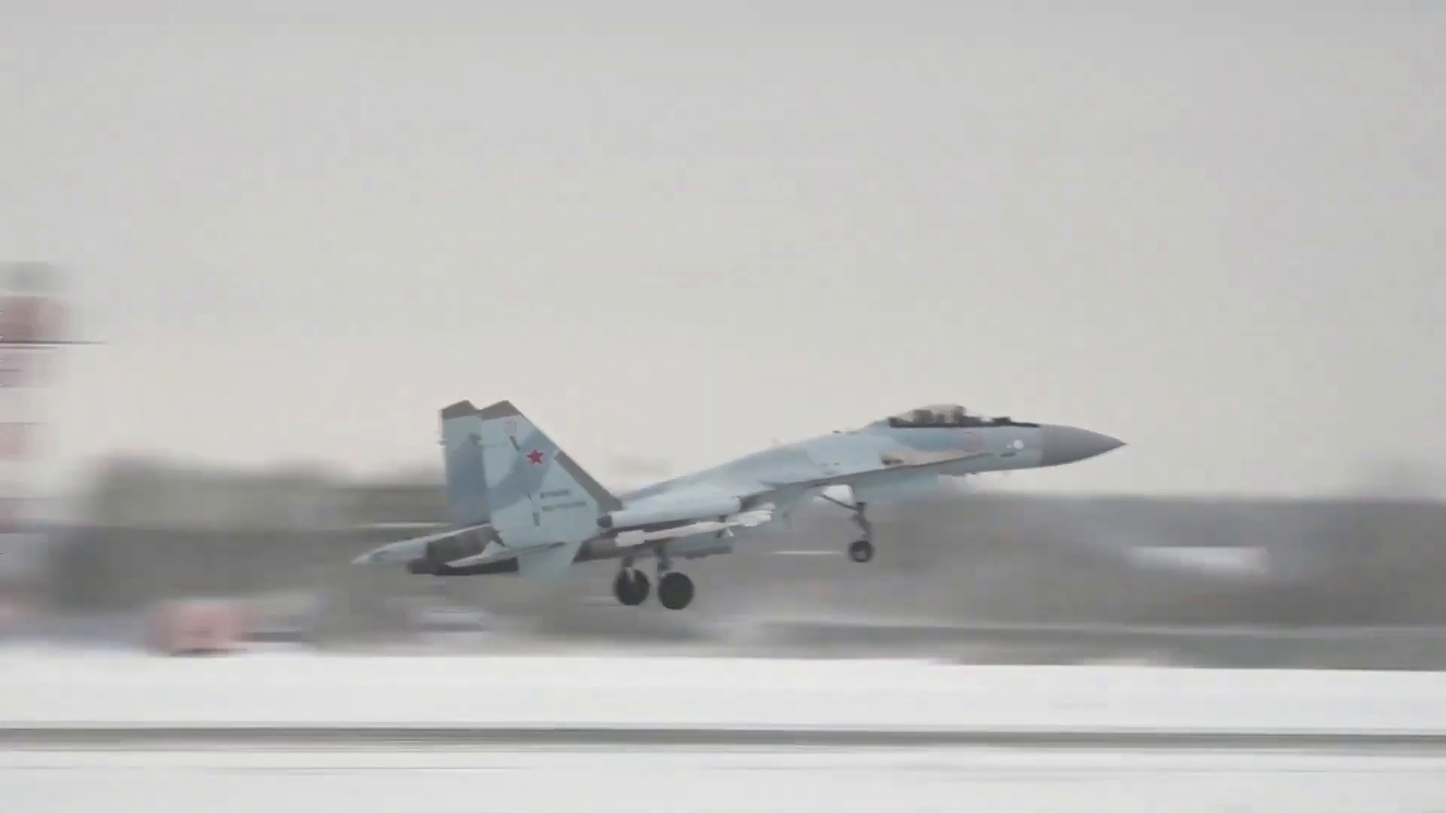Su35: (351, 399, 1124, 610)
